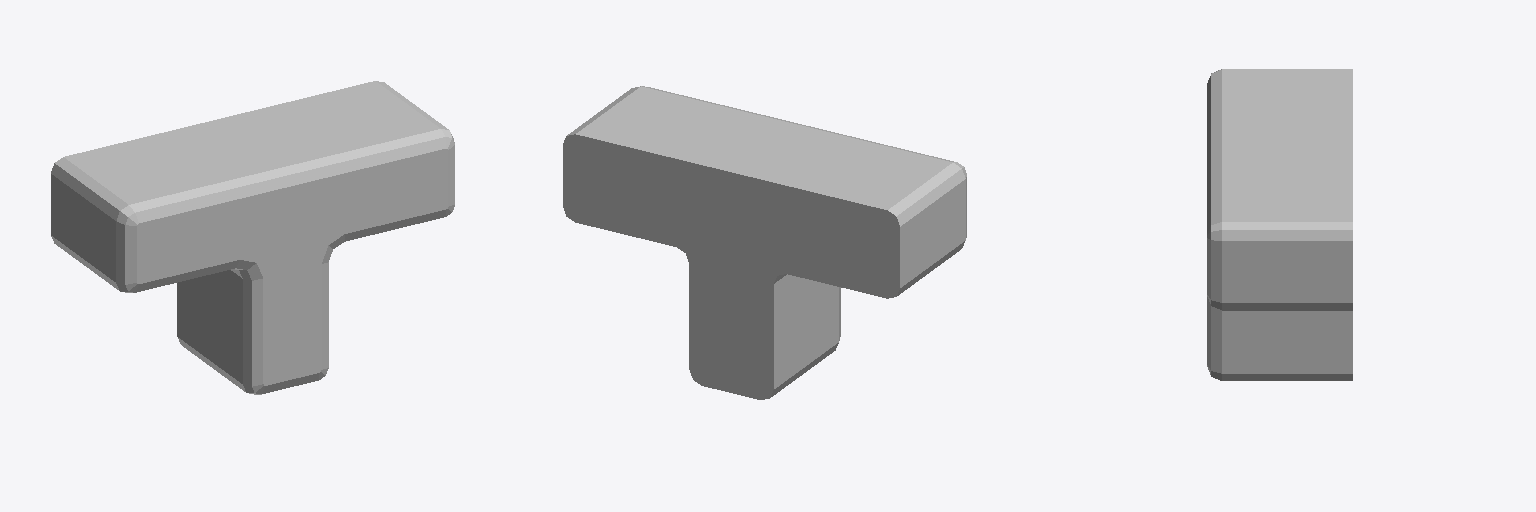
Rendered from 100_T_Wall.obj.
3 renders of one model, left to right at view 1: azimuth 30°, elevation 25°; view 2: azimuth 150°, elevation 25°; view 3: azimuth 270°, elevation 25°, orthographic.
Visible parts, largest first — view 1: T_Wall_Plane.864; view 2: T_Wall_Plane.864; view 3: T_Wall_Plane.864.
Part boxes in pixels (x1,y1,x2,y2): T_Wall_Plane.864: (51, 81, 454, 394); T_Wall_Plane.864: (563, 86, 966, 399); T_Wall_Plane.864: (1207, 69, 1352, 380).
Bounding box in the file's own units: 8 × 5 × 3.